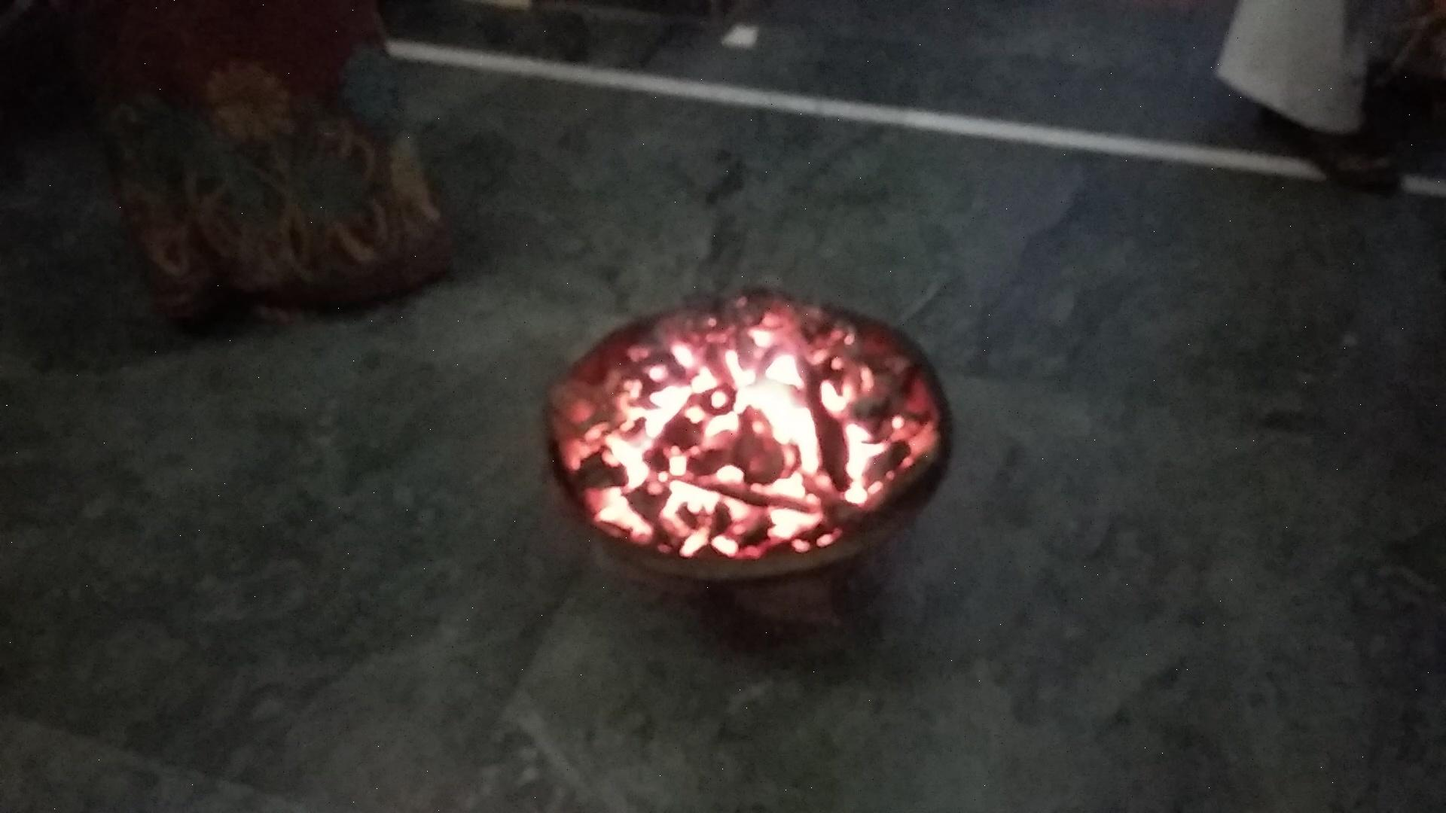fire: (573, 294, 913, 546)
